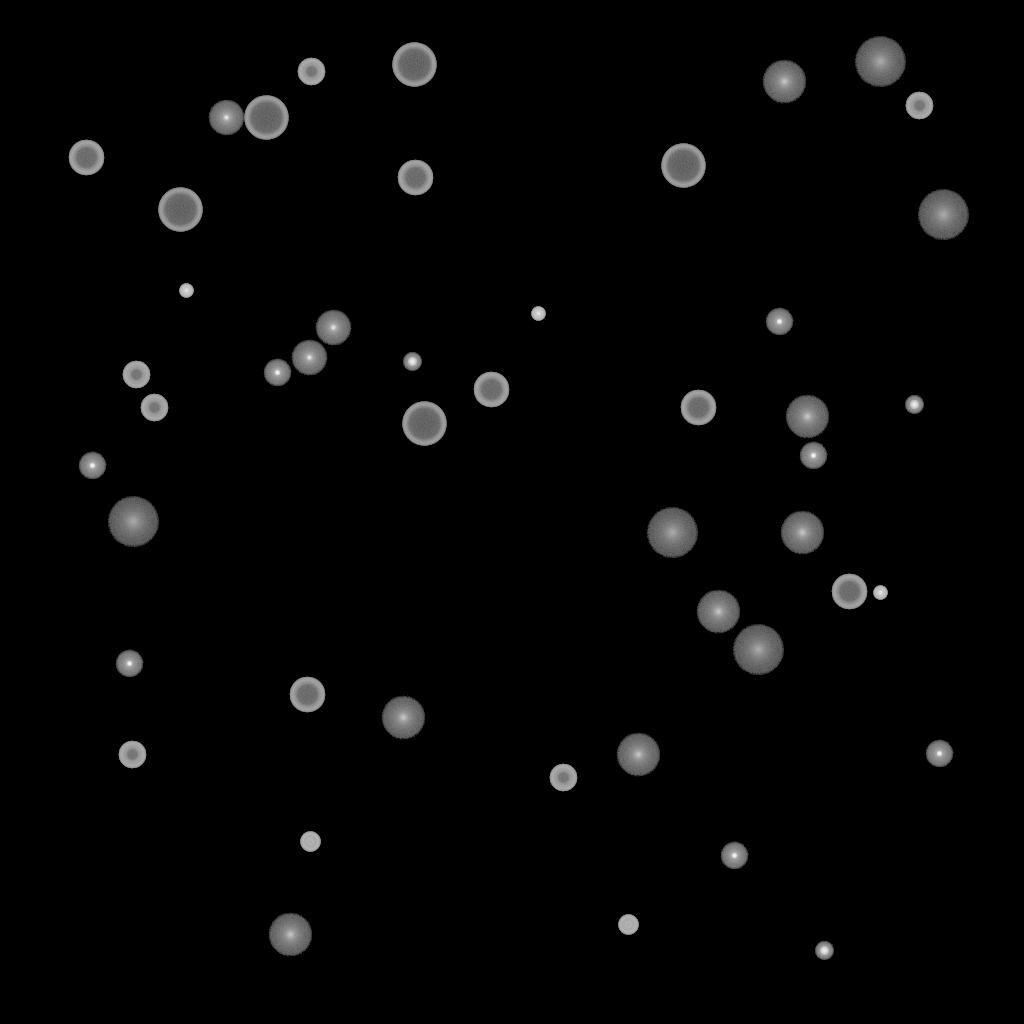depth:-10: (925, 740, 953, 768), (78, 452, 106, 480), (115, 650, 143, 678), (799, 442, 827, 470), (765, 308, 793, 336), (720, 842, 748, 870), (263, 359, 291, 387)
depth:-20: (403, 353, 421, 371), (905, 396, 923, 414), (815, 942, 833, 960)
depth:-30: (179, 284, 193, 298), (873, 586, 887, 600), (531, 307, 545, 321)
depth:-40: (300, 832, 320, 852), (618, 915, 638, 935)
depth:-50: (549, 764, 577, 792), (140, 394, 168, 422), (297, 58, 325, 86), (118, 741, 146, 769), (122, 361, 150, 389), (905, 92, 933, 120)
depth:-60: (68, 140, 104, 176), (680, 390, 716, 426), (397, 160, 433, 196), (289, 677, 325, 713), (473, 372, 509, 408), (831, 574, 867, 610)
depth:-70: (244, 96, 288, 140), (661, 144, 705, 188), (392, 43, 436, 87), (402, 402, 446, 446), (158, 188, 202, 232)
depth:0: (291, 340, 327, 376), (315, 310, 351, 346), (208, 100, 244, 136)
depth:10: (780, 511, 824, 555), (381, 696, 425, 740), (762, 60, 806, 104), (616, 733, 660, 777), (696, 590, 740, 634), (785, 395, 829, 439), (268, 913, 312, 957)
depth:20: (107, 497, 159, 547), (732, 625, 784, 675), (854, 37, 906, 87), (917, 190, 969, 240), (646, 508, 698, 558)
